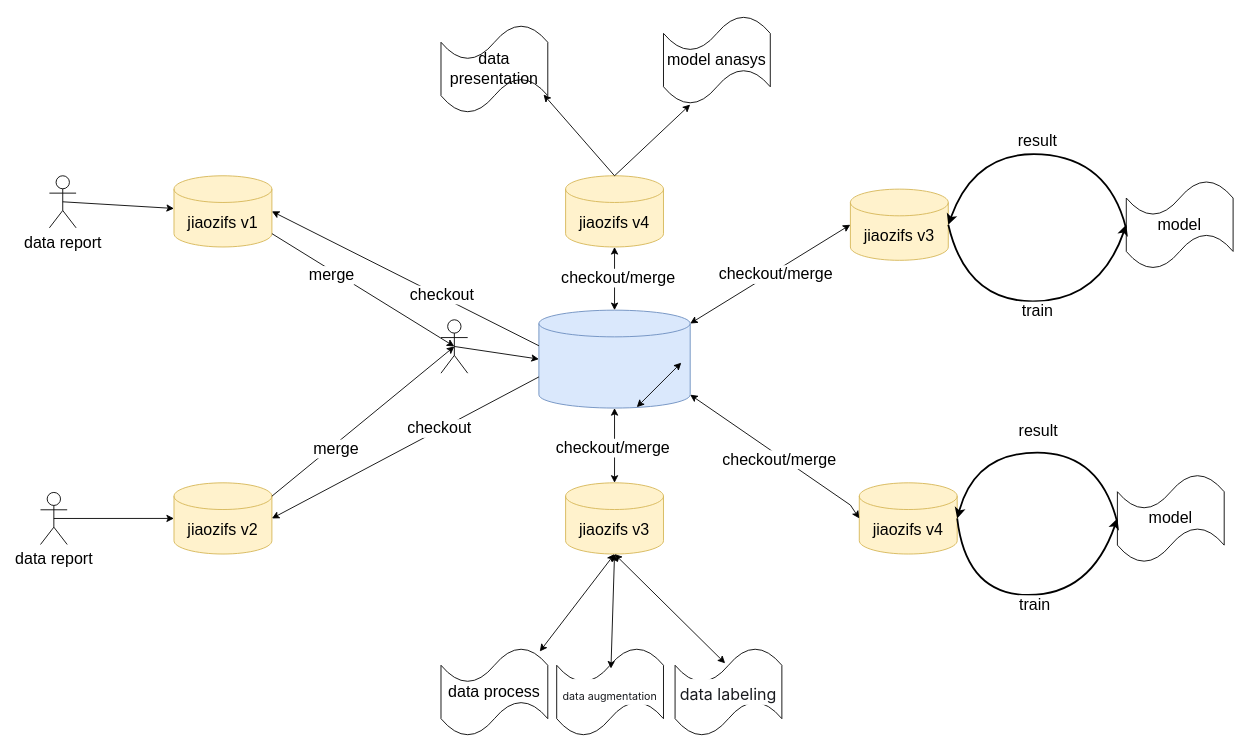
This 1249x752 diagram has some shape labels left out. Each missing label, with the centre of its shape:
Actor: point 454,346
jiaozifs master: point 614,358
